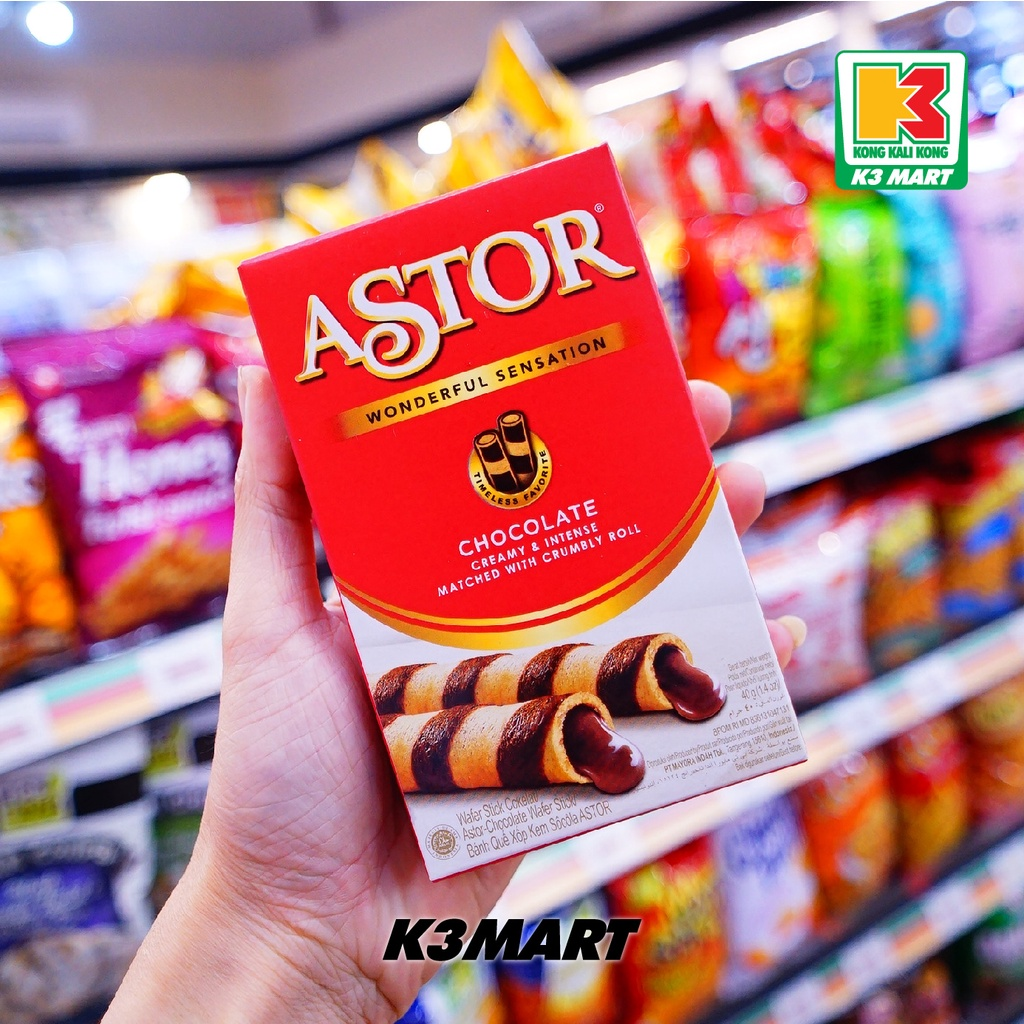Astor Chocolate (40g): (189, 278, 640, 952)
